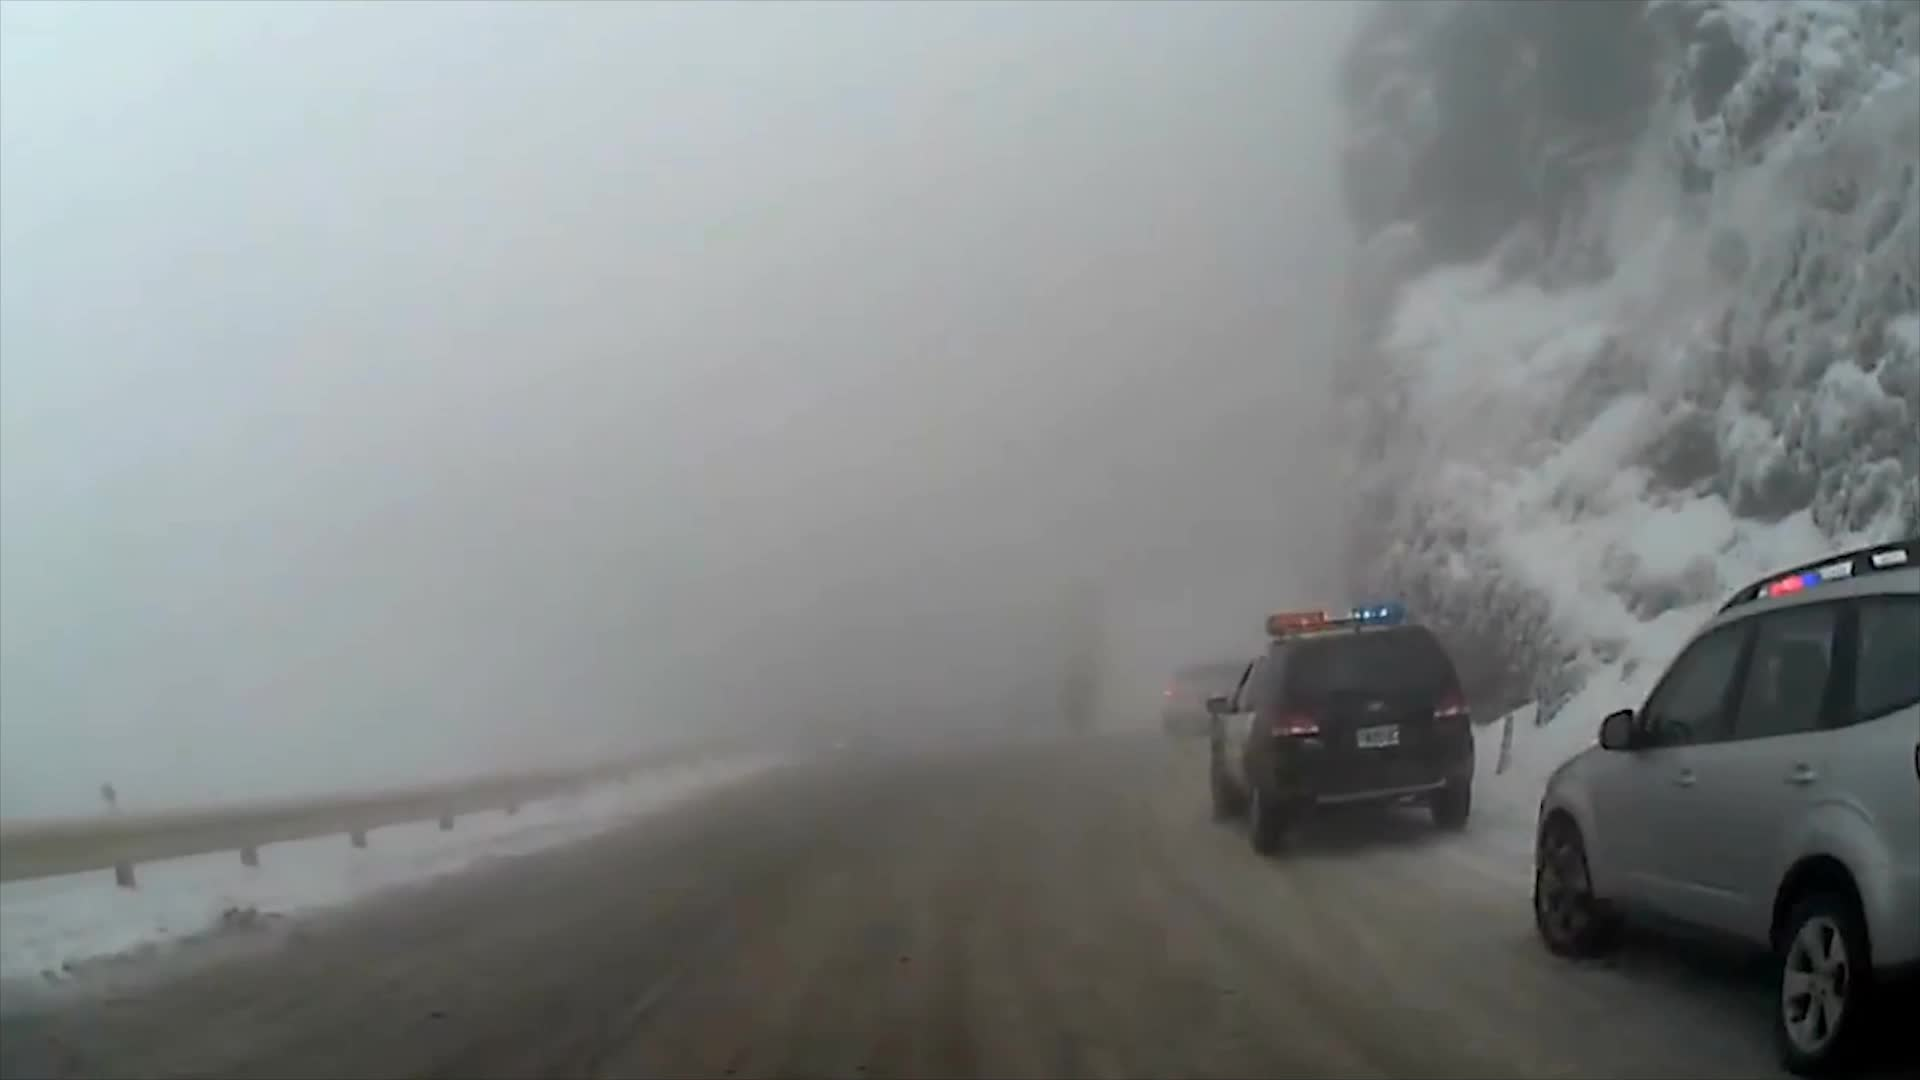vehicle: (1528, 535, 1920, 1080), (1199, 603, 1474, 858)
